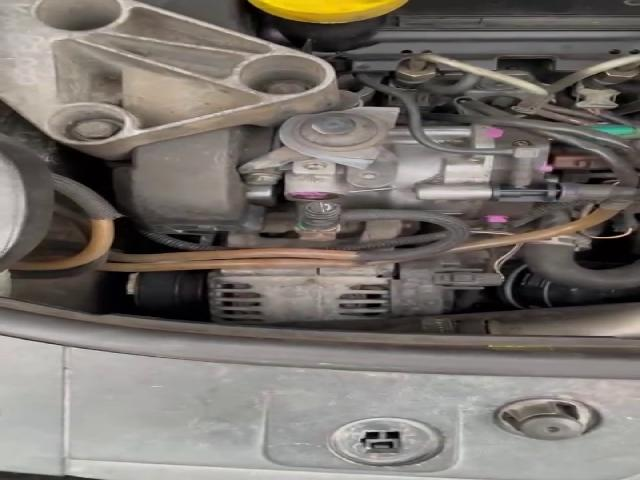alternator: (210, 263, 392, 323)
high_pressure_pump: (283, 125, 638, 230)
